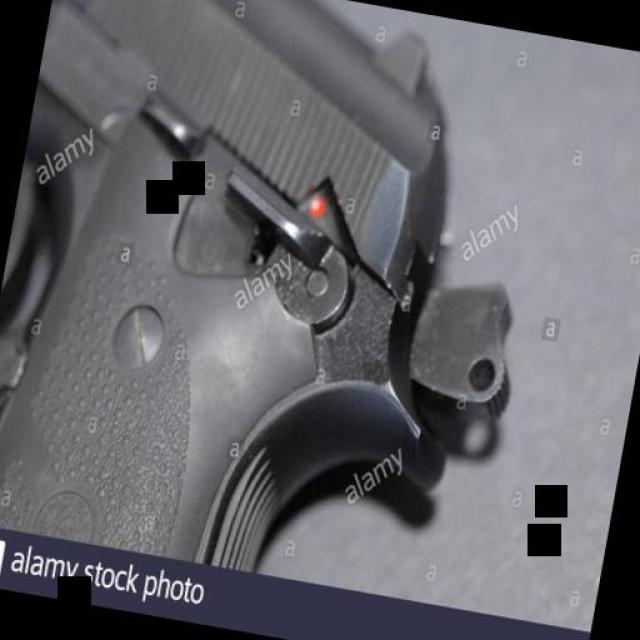gun: (0, 0, 568, 609)
